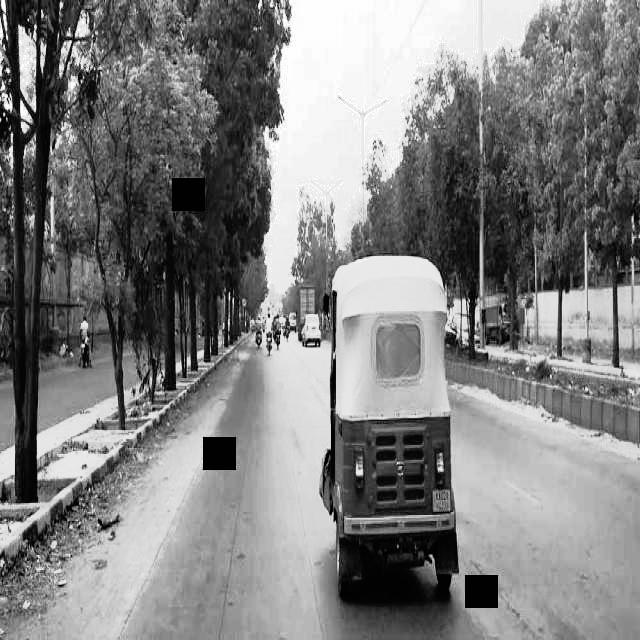Auto-Rickshaw: (320, 259, 460, 622)
